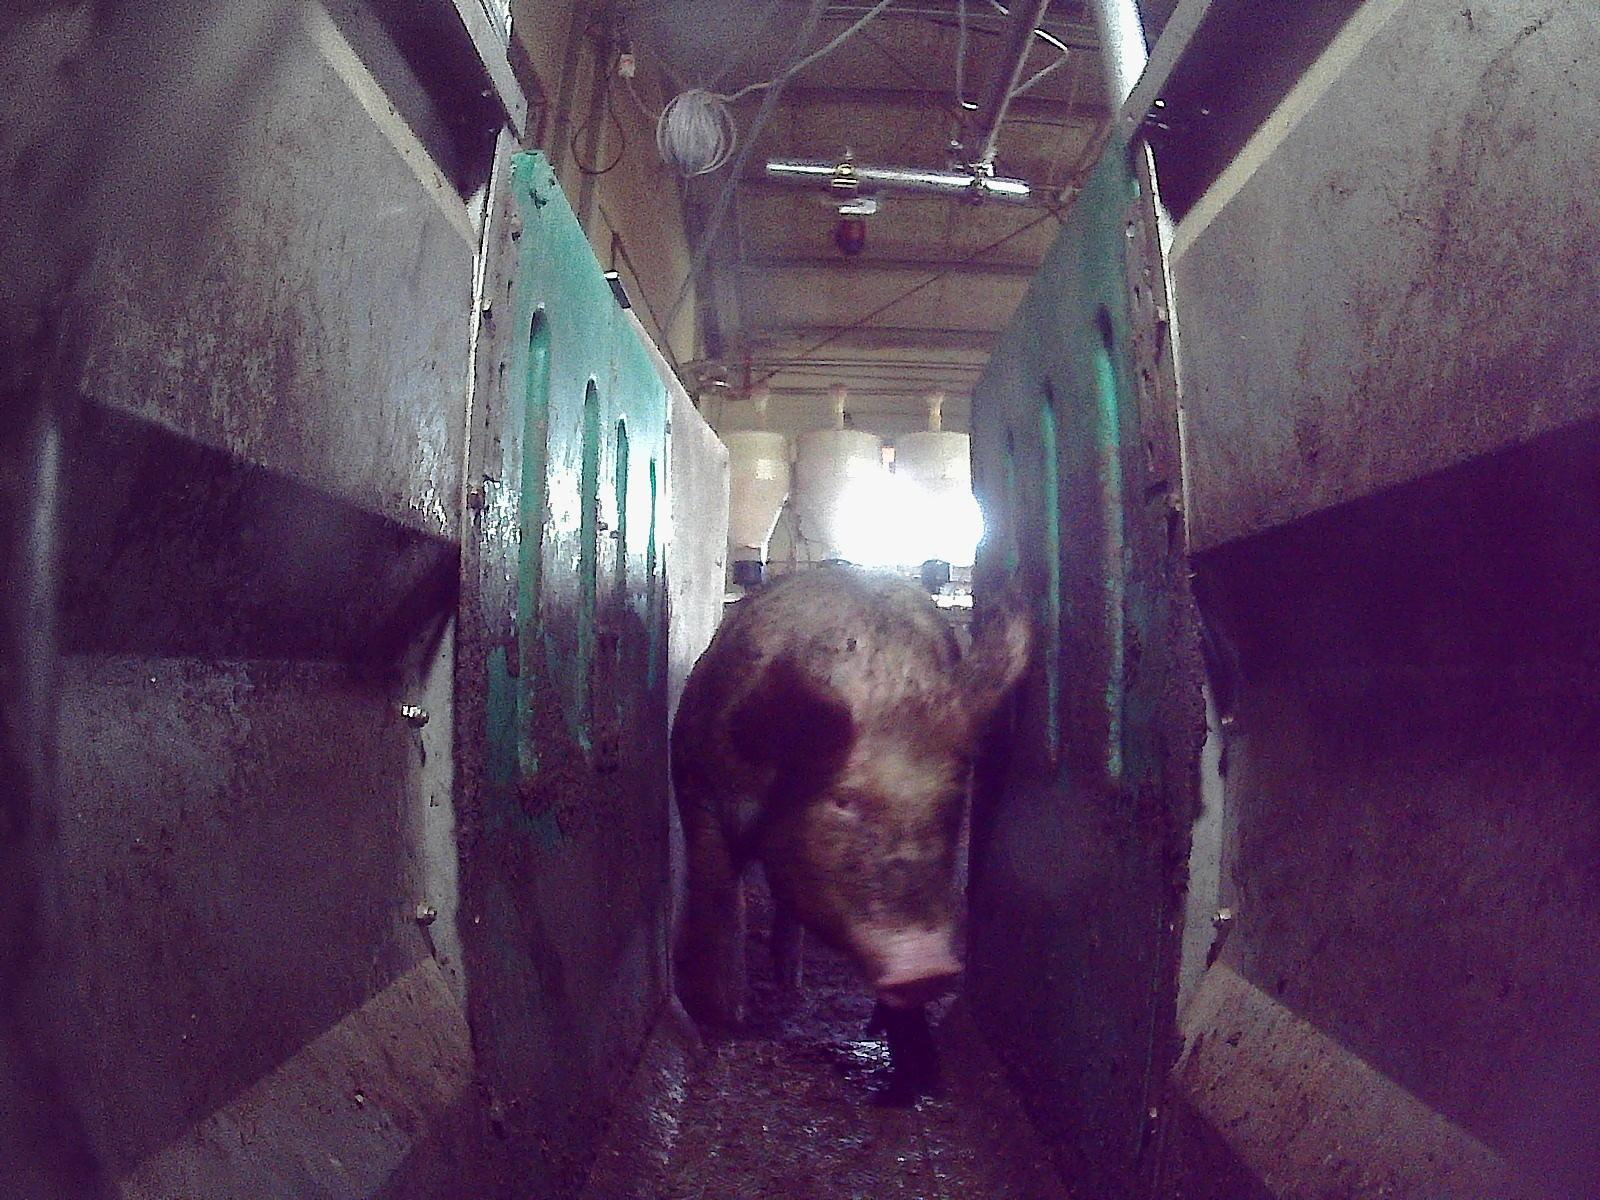Face: (796, 692, 964, 1006)
